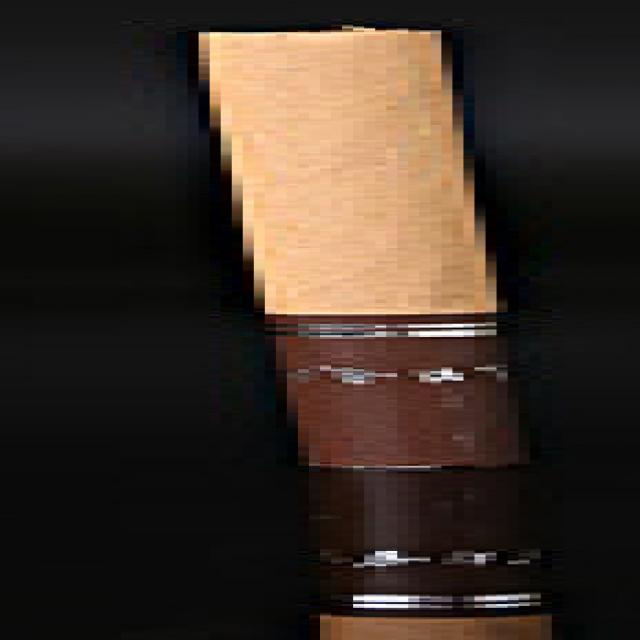smoking: (188, 27, 562, 638)
